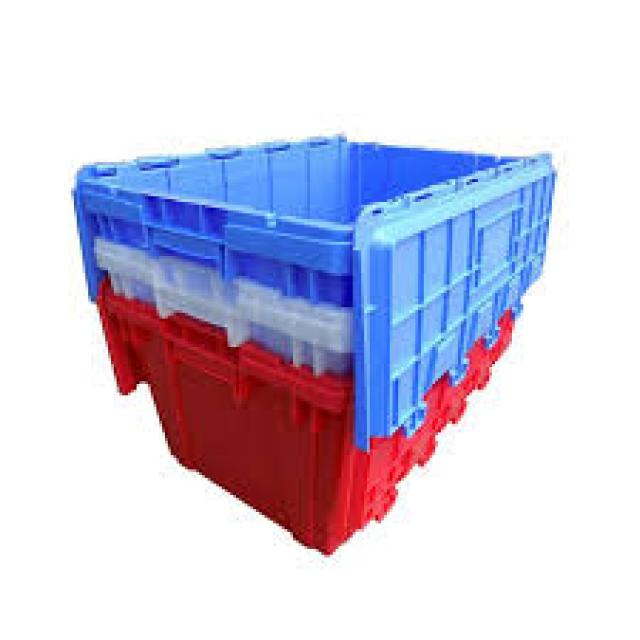basket: (40, 111, 560, 572)
